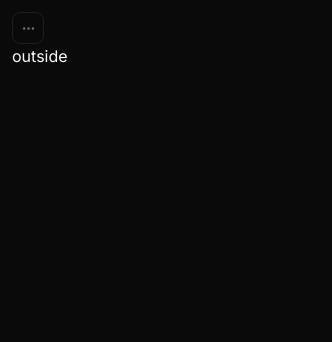
Test: ServerRowActionsMenu › closes the menu when clicking outside
The width and height of the screenshot is (332, 342).
Later steps or results of the test are not shown.
Click the button named "Actions for vps-prod" at (28, 28), box [12, 12, 44, 44]
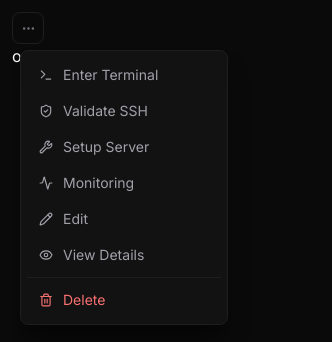
Check: the menu item "Delete" is shown, box [27, 282, 221, 318]
